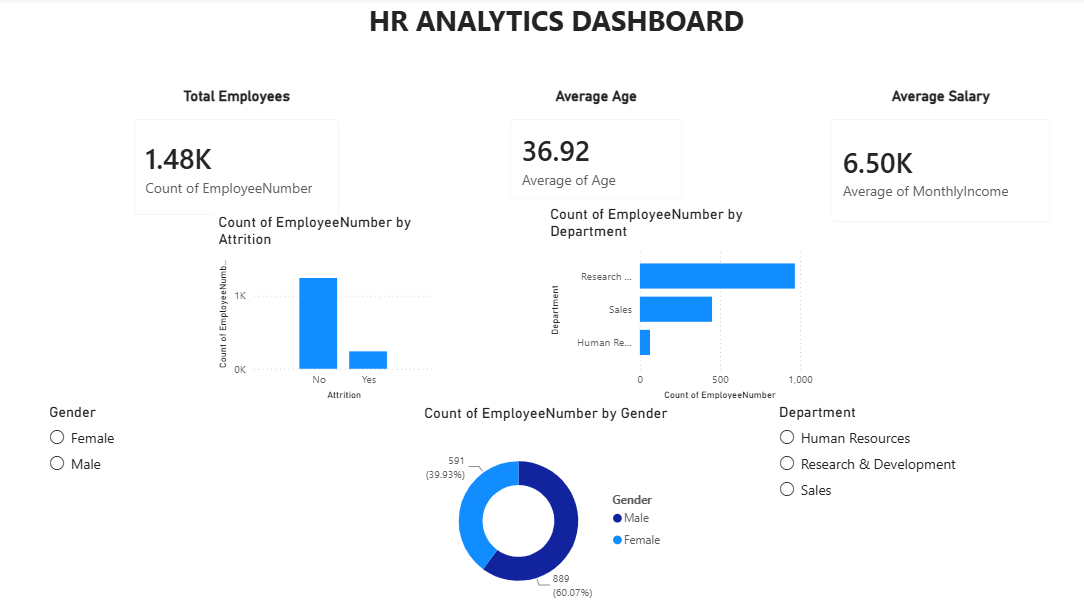

The page's visual inventory and layout, read from the dashboard file:
{"tool":"powerbi","page":{"name":"Page 2","canvas":[1280,720],"ordinal":1},"visuals":[{"type":"donutChart","fields":{"Category":["HR_Analytics.Gender"],"Y":["CountNonNull(HR_Analytics.EmployeeNumber)"]},"box":[494.3,470.8,293.5,249.5],"z":0},{"type":"cardVisual","title":"Total Employees","fields":{"Data":["CountNonNull(HR_Analytics.EmployeeNumber)"]},"box":[147.5,105.1,271.5,164.8],"z":1000},{"type":"cardVisual","title":"Average Age","fields":{"Data":["Avg(HR_Analytics.Age)"]},"box":[582.2,105.1,232.3,145.9],"z":2000},{"type":"cardVisual","title":"Average Salary","fields":{"Data":["Avg(HR_Analytics.MonthlyIncome)"]},"box":[954.1,105.1,287.2,172.6],"z":3000},{"type":"clusteredColumnChart","fields":{"Category":["HR_Analytics.Attrition"],"Y":["CountNonNull(HR_Analytics.EmployeeNumber)"]},"box":[257.4,251.1,258.9,219.7],"z":4000},{"type":"clusteredBarChart","fields":{"Category":["HR_Analytics.Department"],"Y":["CountNonNull(HR_Analytics.EmployeeNumber)"]},"box":[640.3,241.7,313.9,229.1],"z":5000},{"type":"textbox","box":[430,0,536.7,65.9],"z":5001},{"type":"listSlicer","fields":{"Values":["HR_Analytics.Department"]},"box":[904.9,469.7,258.3,202],"z":5002},{"type":"listSlicer","fields":{"Values":["HR_Analytics.Gender"]},"box":[61.1,469.7,258.3,202],"z":5003}]}

Visuals, with their boxes in screenshot pixels (x1, y1, x2, y2), scaled from the page's 1280x720 canvas onto the 1084x616 screenshot:
donutChart - HR_Analytics.Gender x CountNonNull(HR_Analytics.EmployeeNumber): crop(419, 403, 667, 615)
"Total Employees" cardVisual: crop(125, 90, 355, 231)
"Average Age" cardVisual: crop(493, 90, 690, 215)
"Average Salary" cardVisual: crop(808, 90, 1051, 238)
clusteredColumnChart - HR_Analytics.Attrition x CountNonNull(HR_Analytics.EmployeeNumber): crop(218, 215, 437, 403)
clusteredBarChart - HR_Analytics.Department x CountNonNull(HR_Analytics.EmployeeNumber): crop(542, 207, 808, 403)
textbox: crop(364, 0, 819, 56)
listSlicer - HR_Analytics.Department: crop(766, 402, 985, 575)
listSlicer - HR_Analytics.Gender: crop(52, 402, 270, 575)
